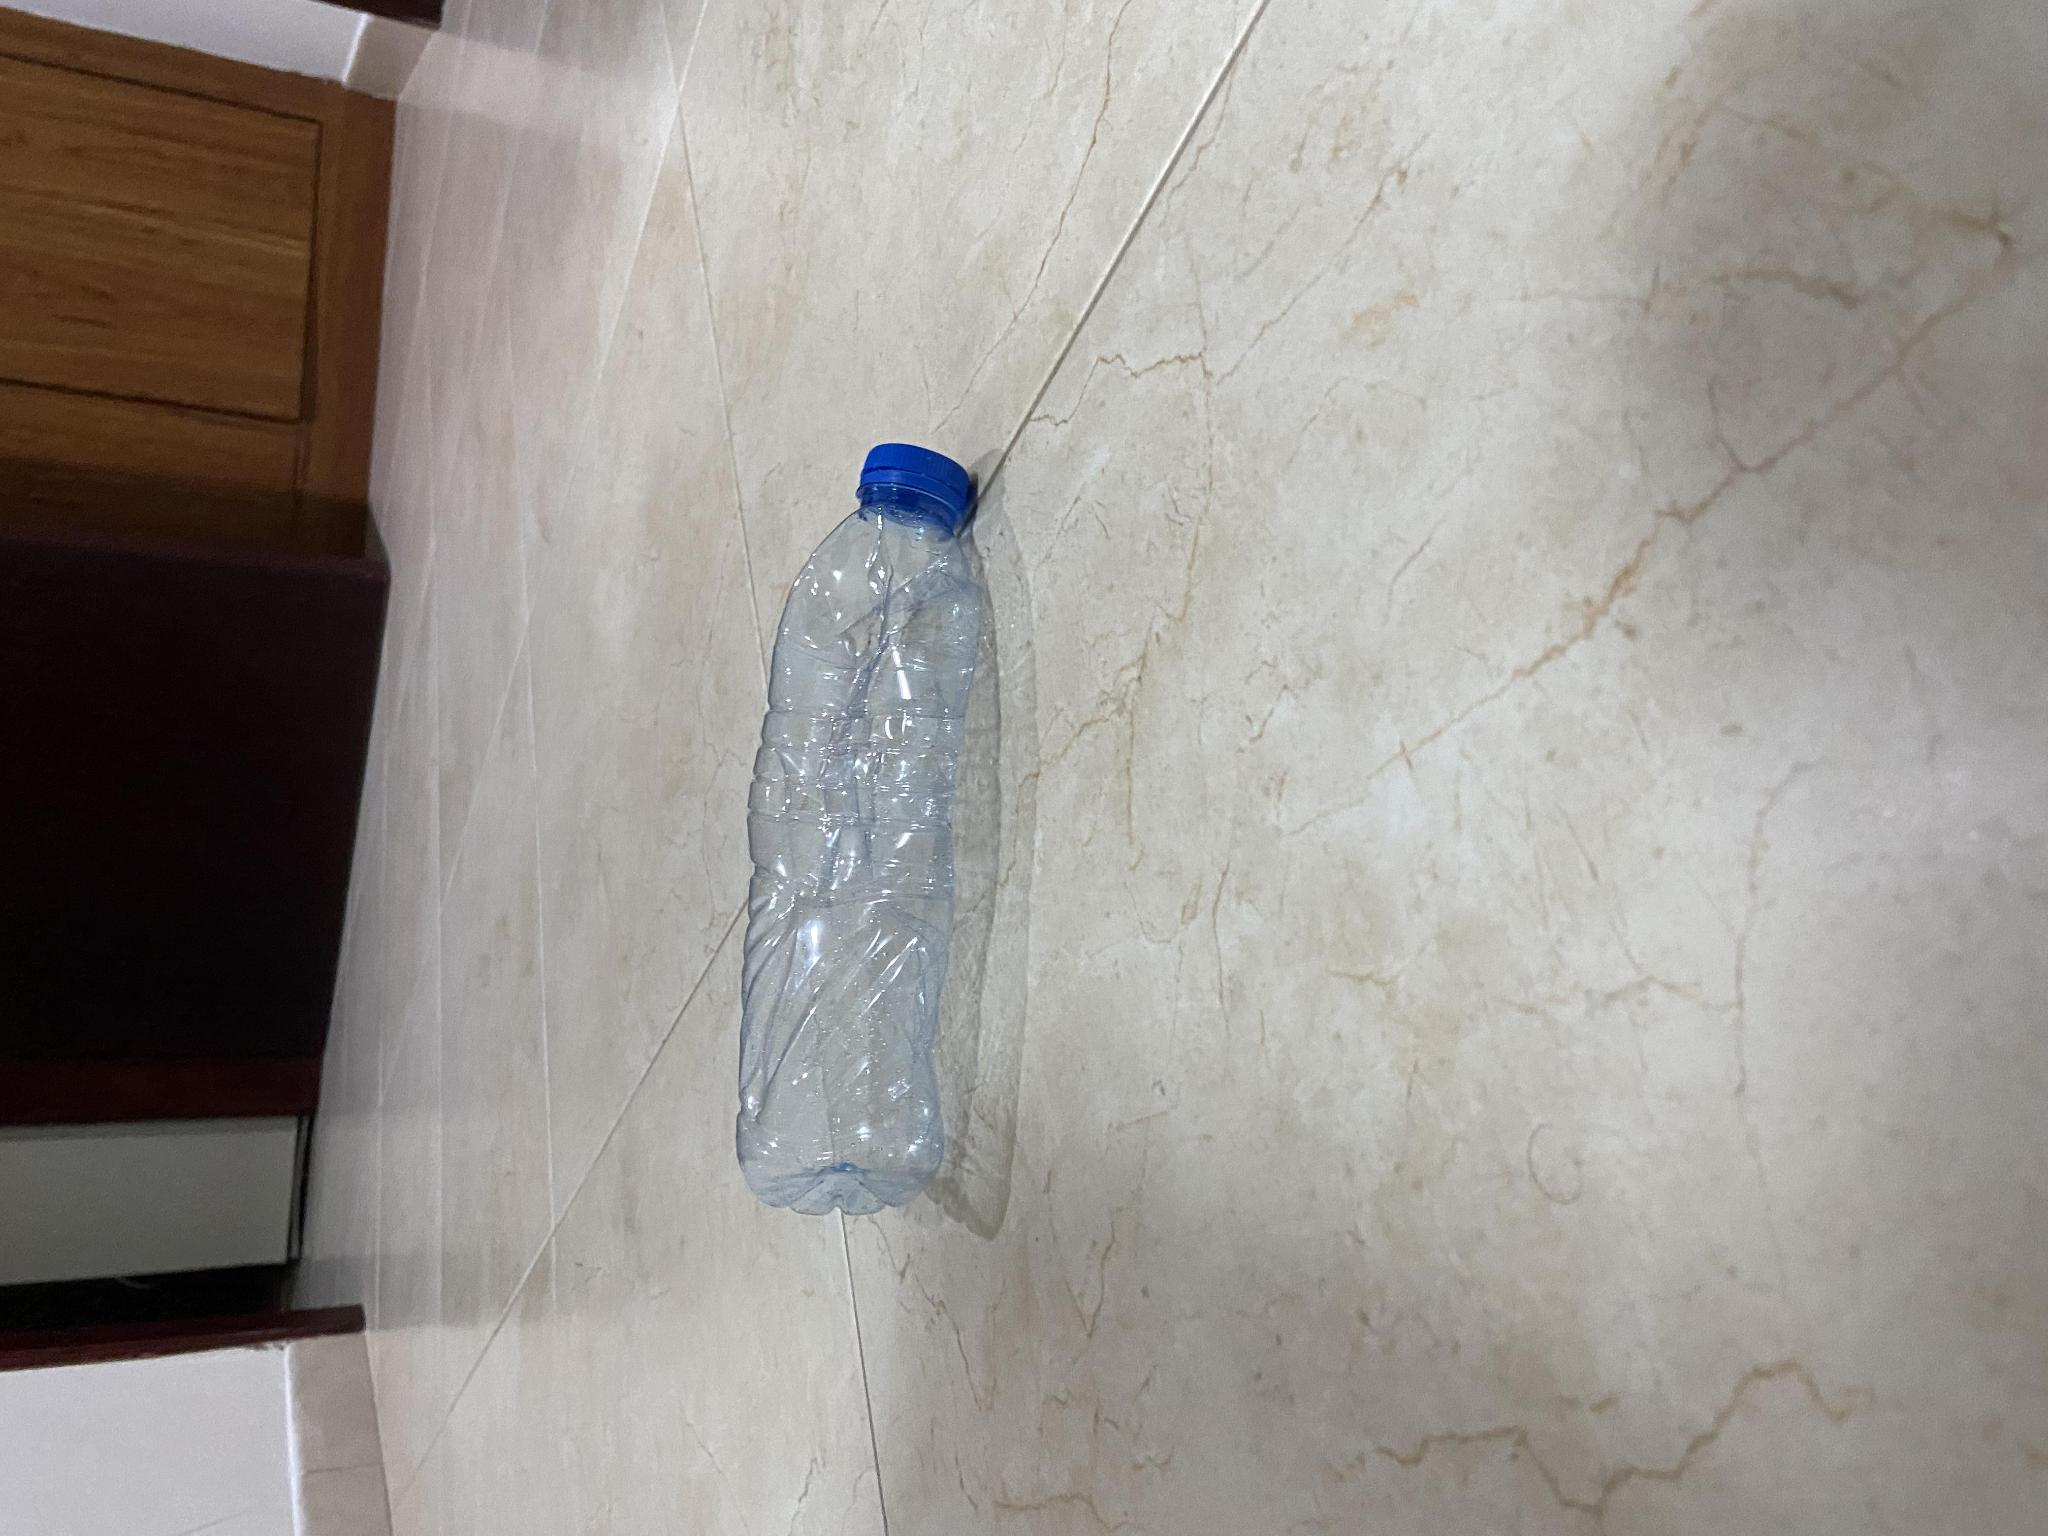bottle: (714, 442, 1040, 1232)
